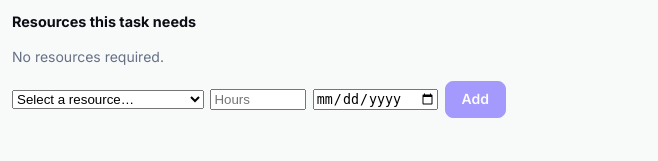
Scenario: TaskResources — what a task needs › says out loud when a resource could only be held tentatively
Select "RED Camera · Equipment" in the dropdown with test id "task-resource-picker" at coordinates (108, 100), box [12,90,204,109]
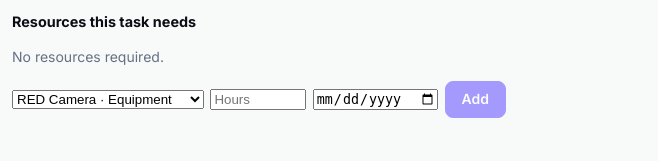
Type "3" into the number field with test id "task-resource-hours" at coordinates (258, 100), box [210,89,306,110]
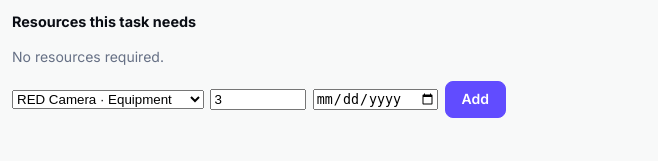
Click the button with test id "task-resource-add-submit" at coordinates (475, 100), box [444,81,506,118]
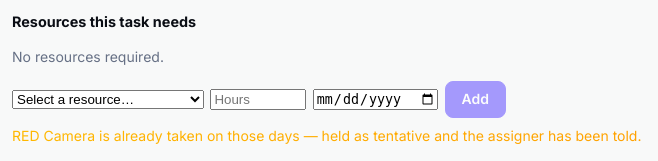
Expected: the element with test id "requirement-outcome" shows "already taken", [12,127,642,144]
